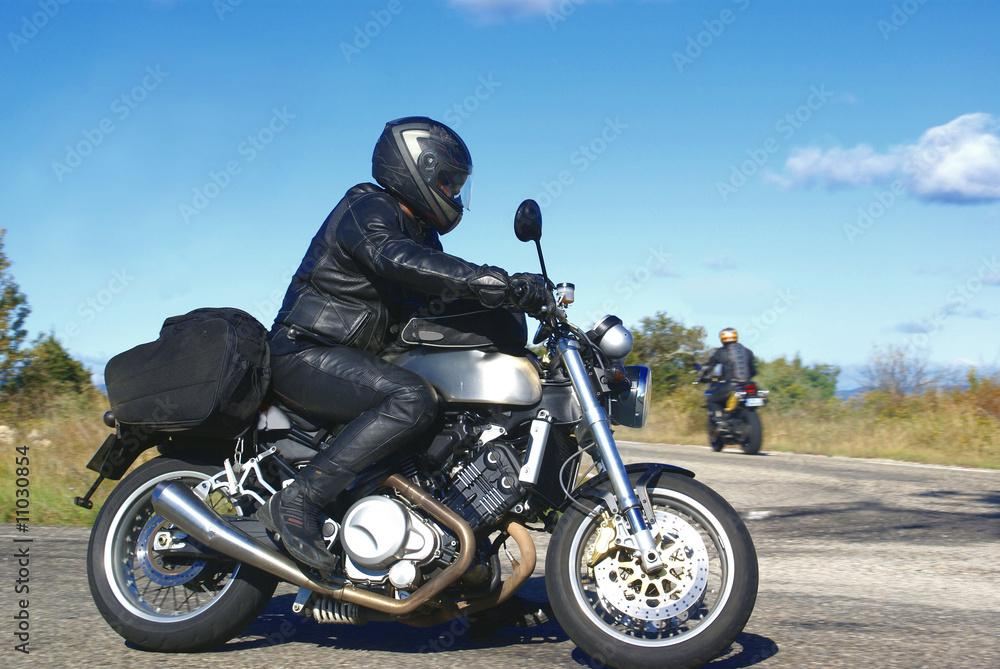helmet: (371, 115, 474, 237)
